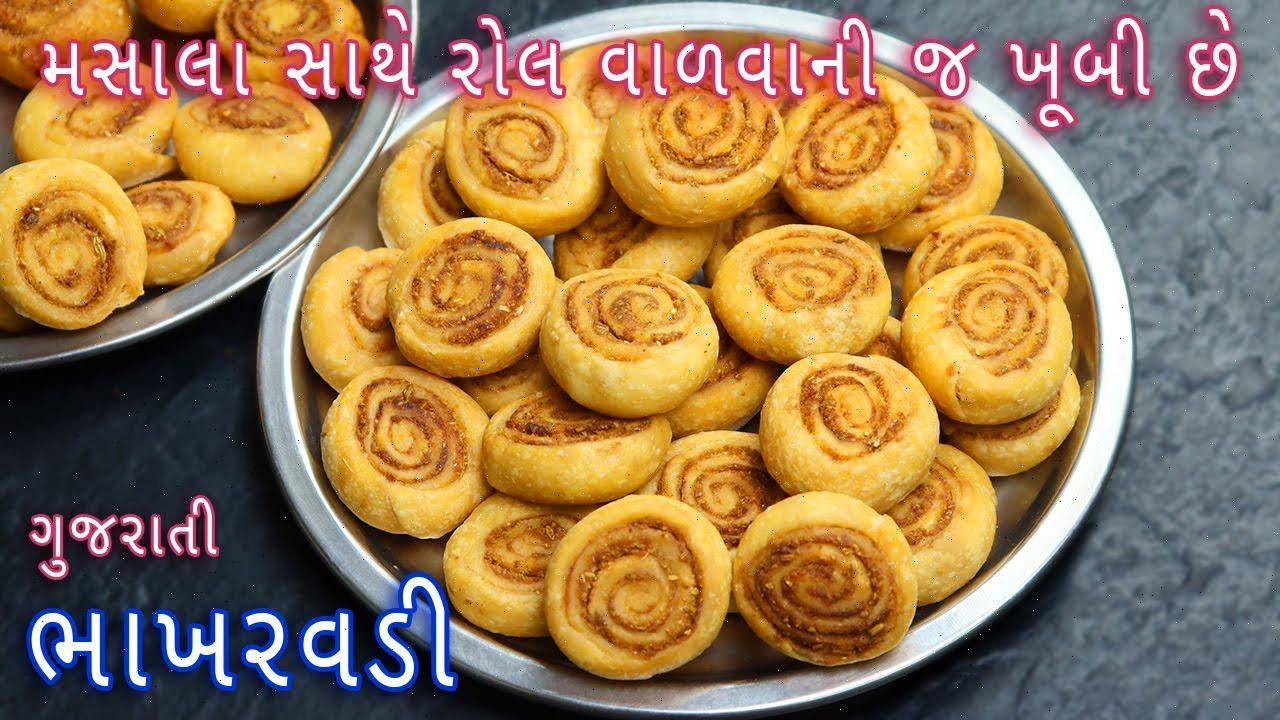bhakarwadi: (286, 103, 1085, 566)
